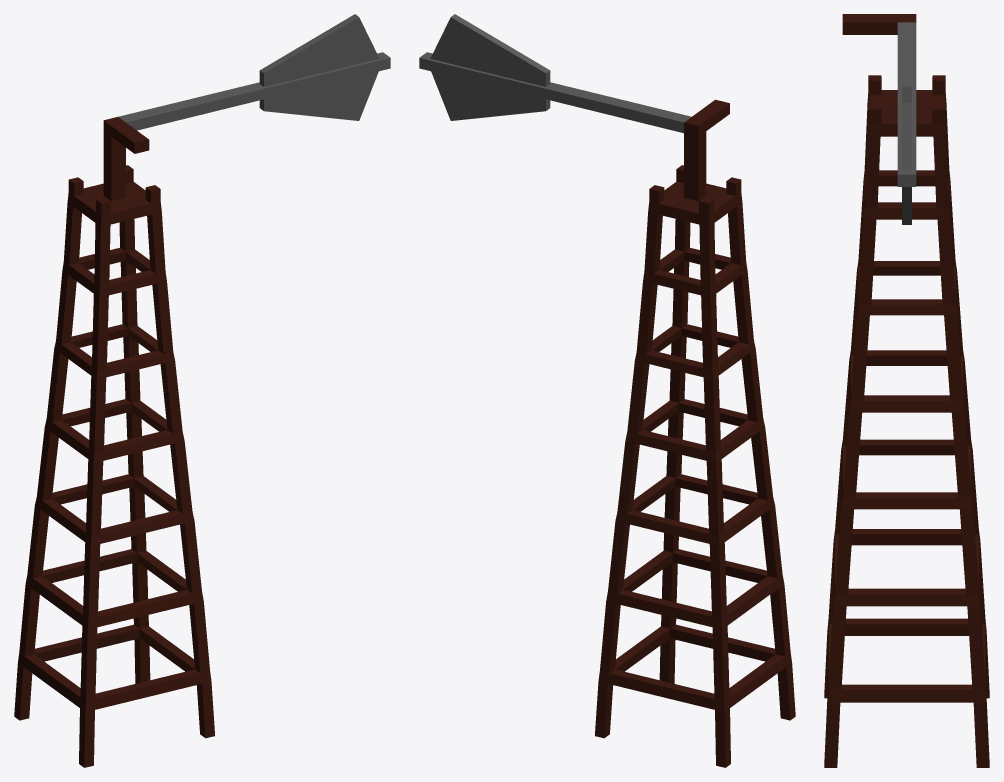
File: Windmill_Cube.obj
3 renders of one model, left to right at view 1: azimuth 30°, elevation 25°; view 2: azimuth 150°, elevation 25°; view 3: azimuth 270°, elevation 25°, orthographic. The views are drawn at different scales.
Visible parts, largest first — view 1: Windmill_Cube.001_Windmill_Cube.002; view 2: Windmill_Cube.001_Windmill_Cube.002; view 3: Windmill_Cube.001_Windmill_Cube.002.
Part boxes in pixels (x1,y1,x2,y2): Windmill_Cube.001_Windmill_Cube.002: [14, 14, 390, 767]; Windmill_Cube.001_Windmill_Cube.002: [419, 14, 795, 767]; Windmill_Cube.001_Windmill_Cube.002: [824, 14, 989, 767].
Size of the model in its own units: 5.27 by 9.72 by 1.9.
